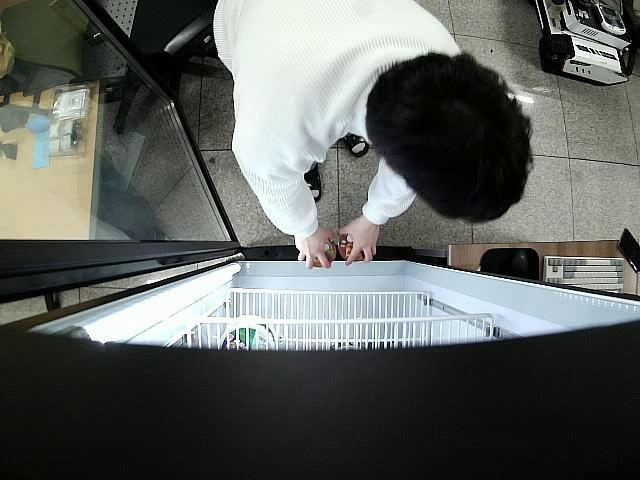06_nuguri_S: (338, 233, 367, 263), (313, 241, 336, 270)
